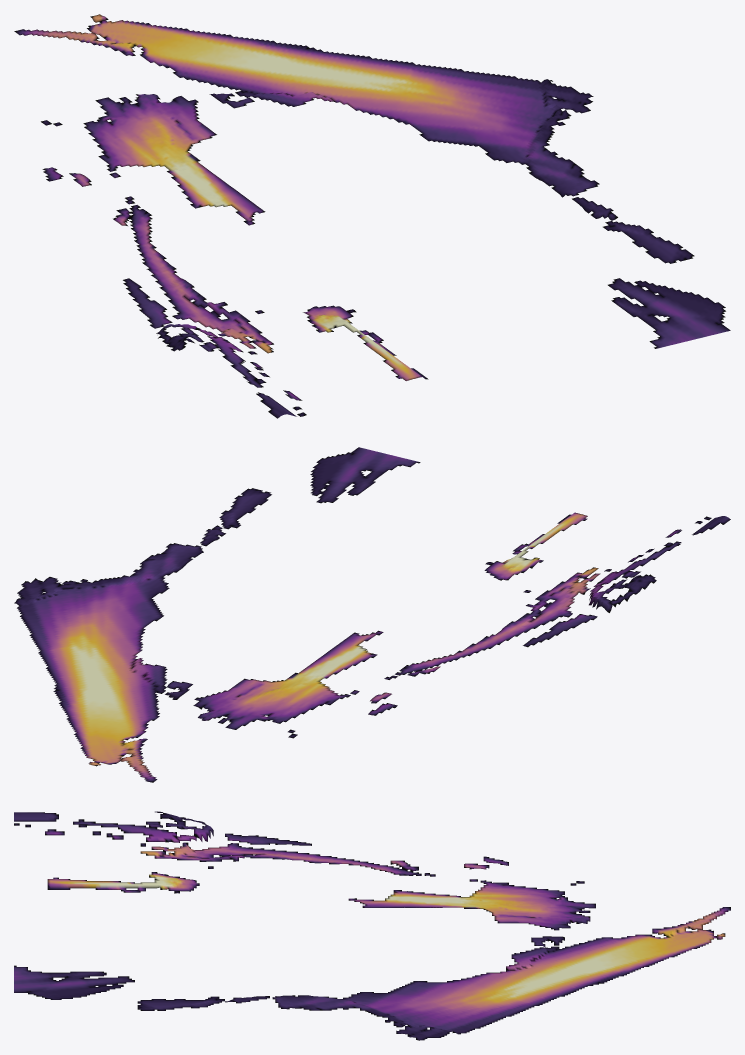
File: heat_overlay_midnight.glb
The picture shows the model from 3 angles, top to bottom: view 1: azimuth 30°, elevation 25°; view 2: azimuth 150°, elevation 25°; view 3: azimuth 270°, elevation 25°; orthographic projection. The views are drawn at different scales.
Visible parts, largest first — view 1: overlay; view 2: overlay; view 3: overlay.
Boxes of the visible parts, x1,y1,x2,y2 form: overlay: (14,14,730,418); overlay: (14,447,730,782); overlay: (14,811,730,1040).
Size of the model in its own units: 724 by 29.23 by 1020.
